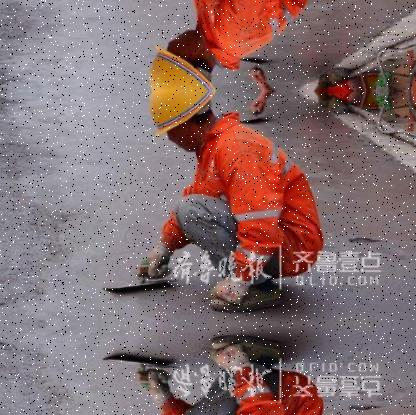helmet: (135, 92, 222, 155), (135, 26, 222, 89)
